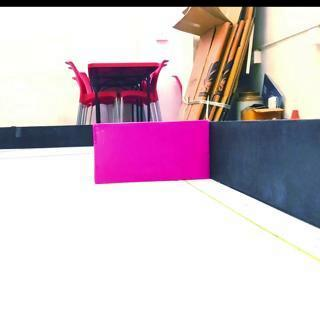xparking: (92, 119, 210, 184)
